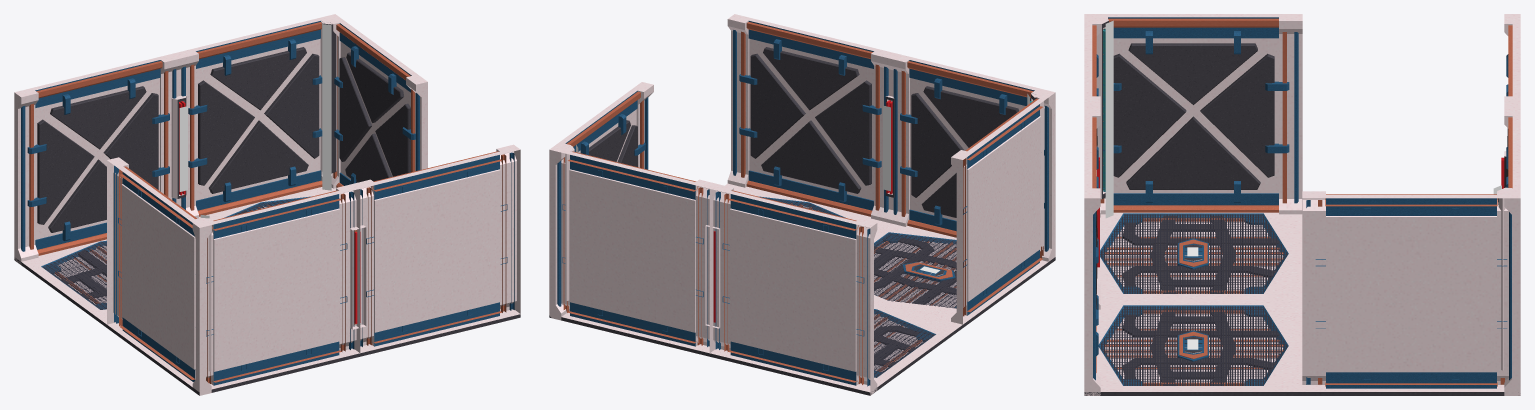
File: Room2.fbx
The picture shows the model from 3 angles, left to right: view 1: azimuth 30°, elevation 25°; view 2: azimuth 150°, elevation 25°; view 3: azimuth 270°, elevation 25°; orthographic projection. The views are drawn at different scales.
Parts seen in each view (by area): view 1: MeshBaker___30_00___30_00__0_00__mesh_mesh, AreaLight__5_, AreaLight__2_; view 2: MeshBaker___30_00___30_00__0_00__mesh_mesh, AreaLight; view 3: MeshBaker___30_00___30_00__0_00__mesh_mesh, AreaLight__6_.
Part boxes in pixels (<box>): MeshBaker___30_00___30_00__0_00__mesh_mesh: <box>14,14,520,395</box>; AreaLight__5_: <box>322,24,331,190</box>; AreaLight__2_: <box>179,106,187,191</box>; MeshBaker___30_00___30_00__0_00__mesh_mesh: <box>549,14,1055,395</box>; AreaLight: <box>883,105,890,191</box>; MeshBaker___30_00___30_00__0_00__mesh_mesh: <box>1084,14,1520,395</box>; AreaLight__6_: <box>1106,21,1113,218</box>.
Bounding box in the file's own units: 800 × 402 × 800.
